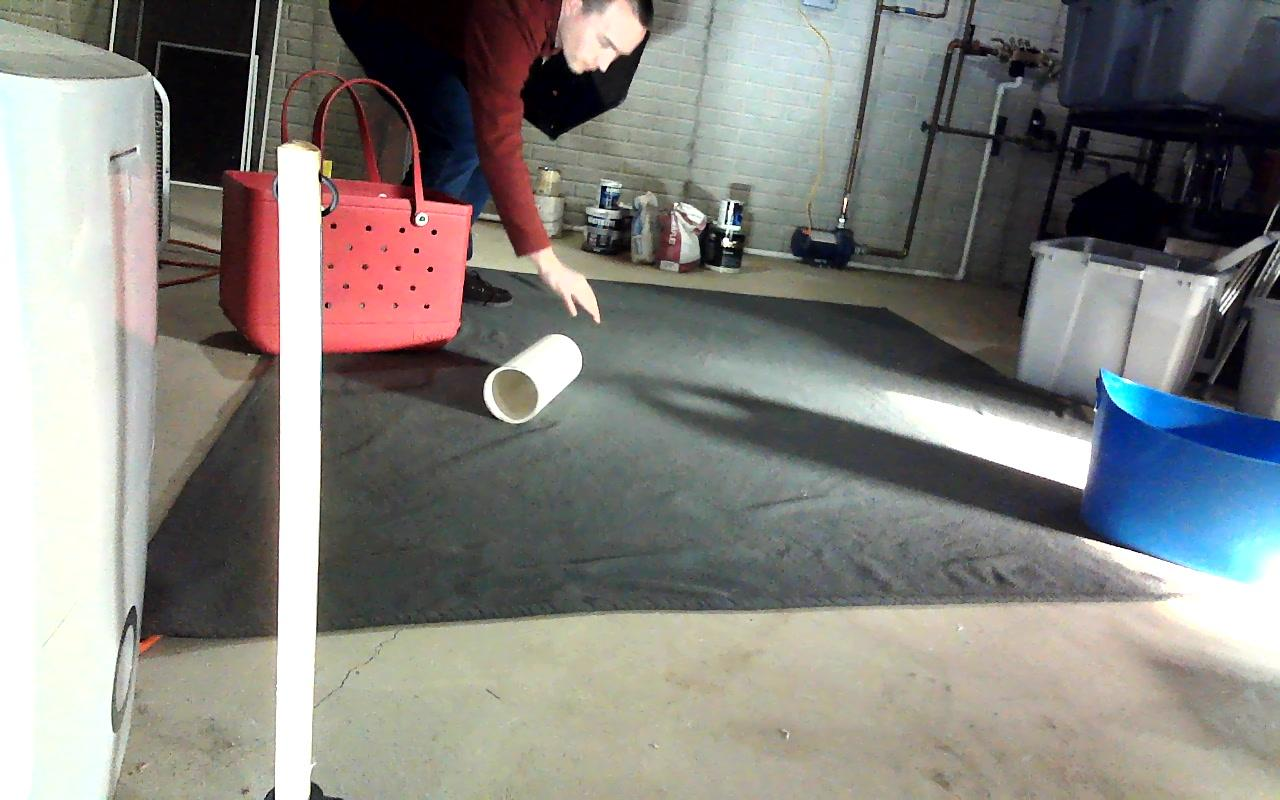coral: (485, 334, 581, 423)
